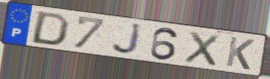6: (149, 26, 180, 61)
7: (74, 14, 107, 50)
D: (28, 10, 72, 47)
J: (111, 23, 144, 57)
K: (224, 35, 257, 72)
X: (182, 30, 221, 68)
